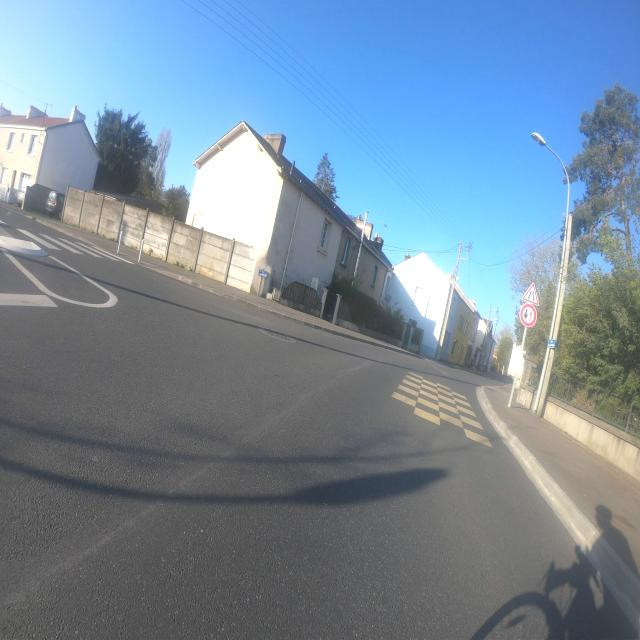car: (22, 183, 66, 220), (5, 186, 25, 206)
